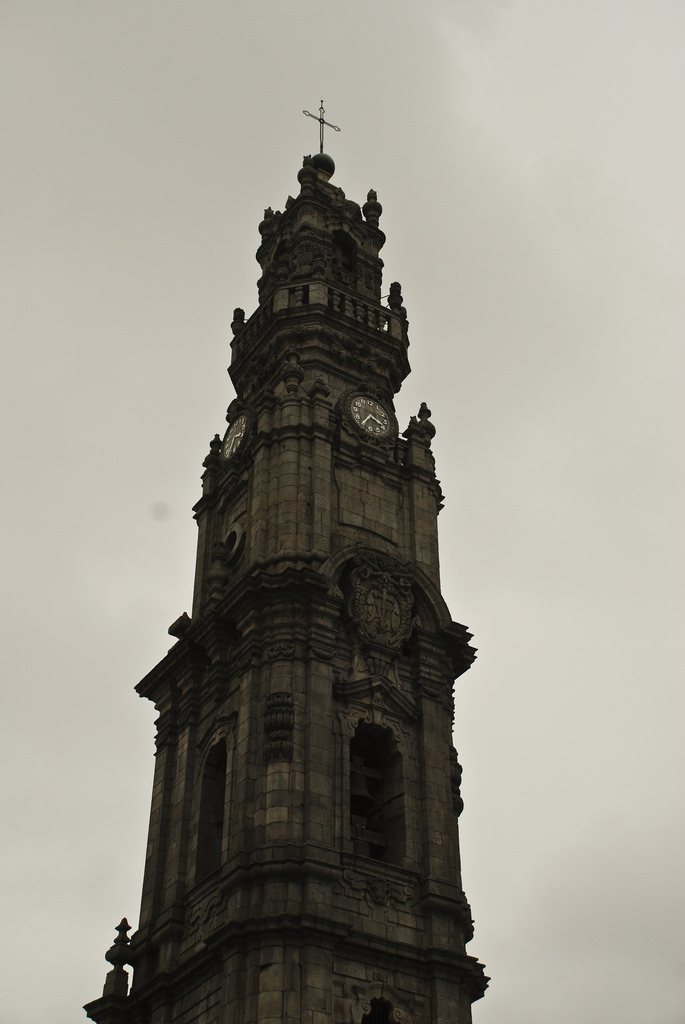clerigos: (81, 92, 495, 1023)
